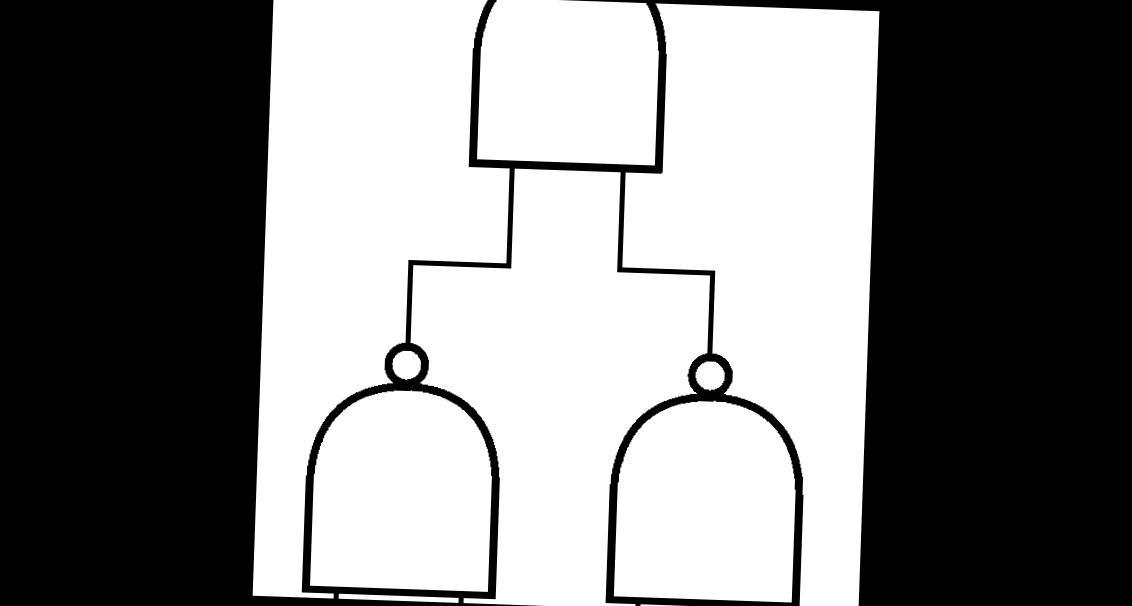nand: (283, 326, 516, 604), (596, 334, 824, 606), (452, 0, 683, 201)
